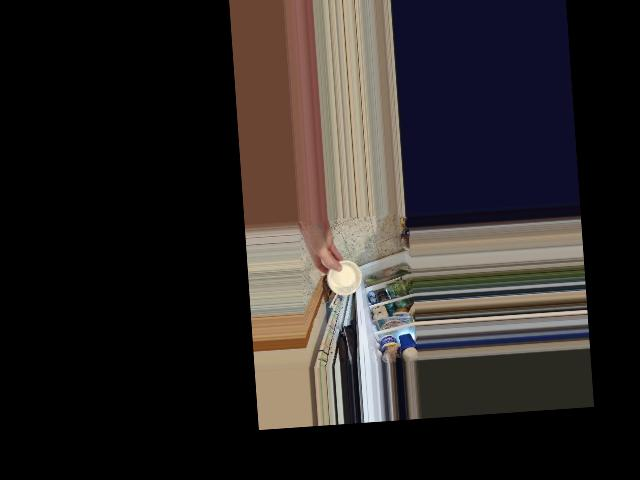cotage: (322, 259, 359, 296)
